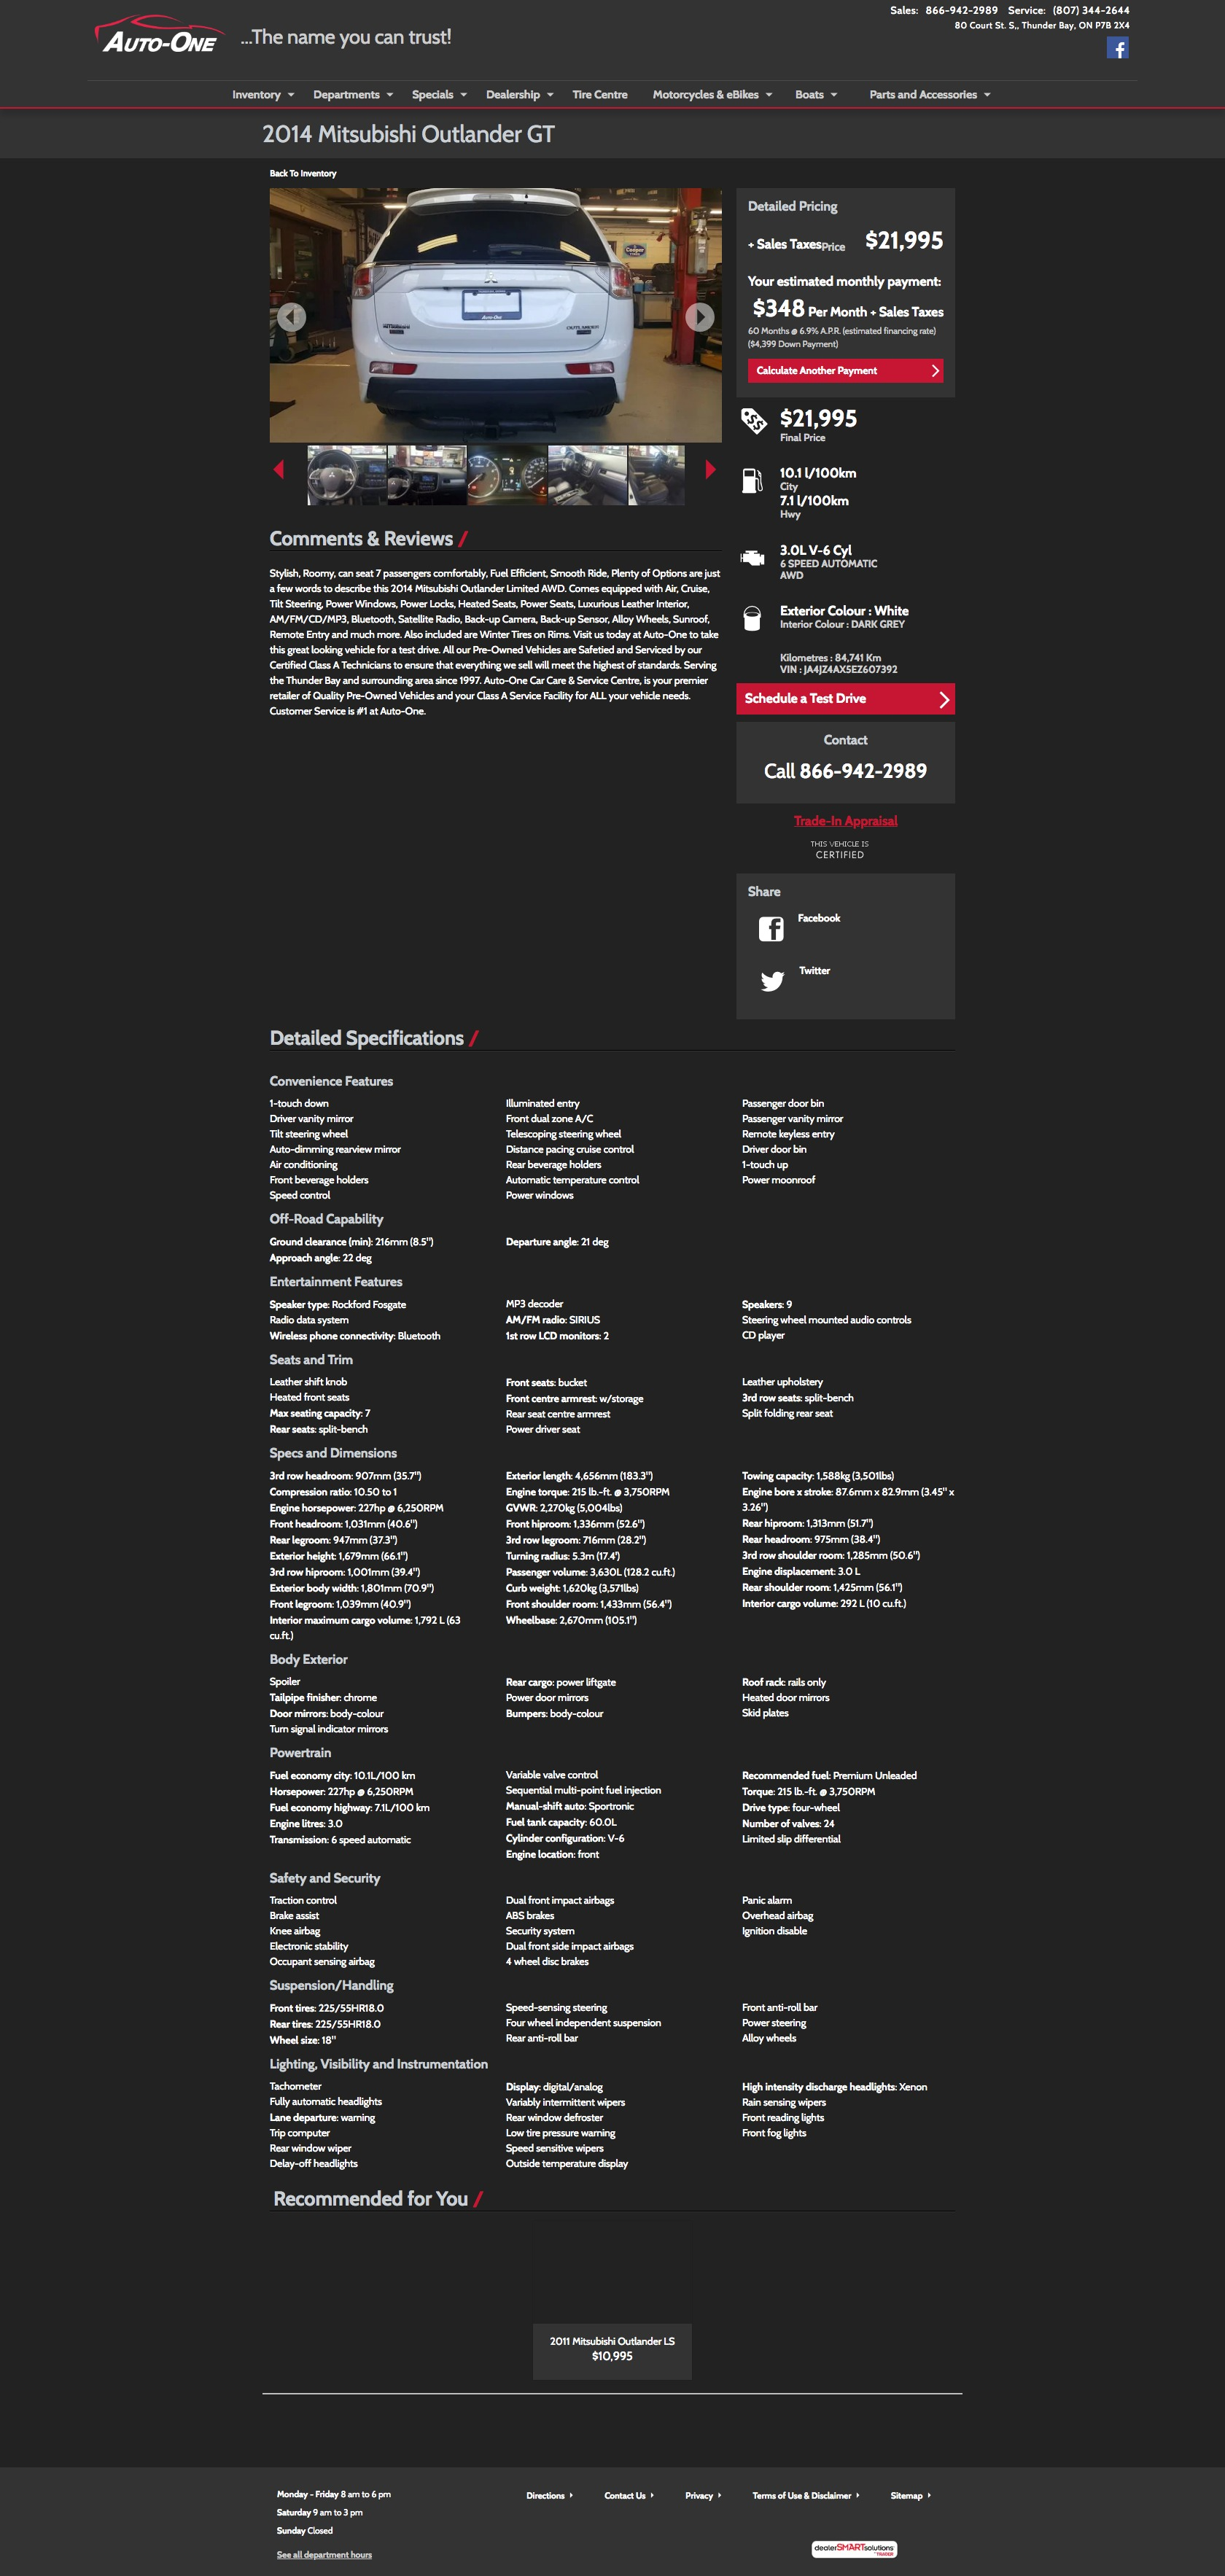car: (704, 460, 718, 480)
